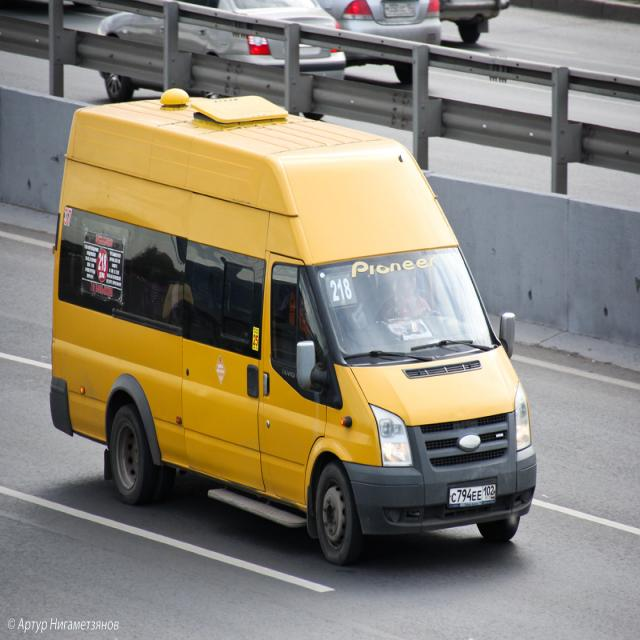number-of-bus: (331, 278, 353, 305)
